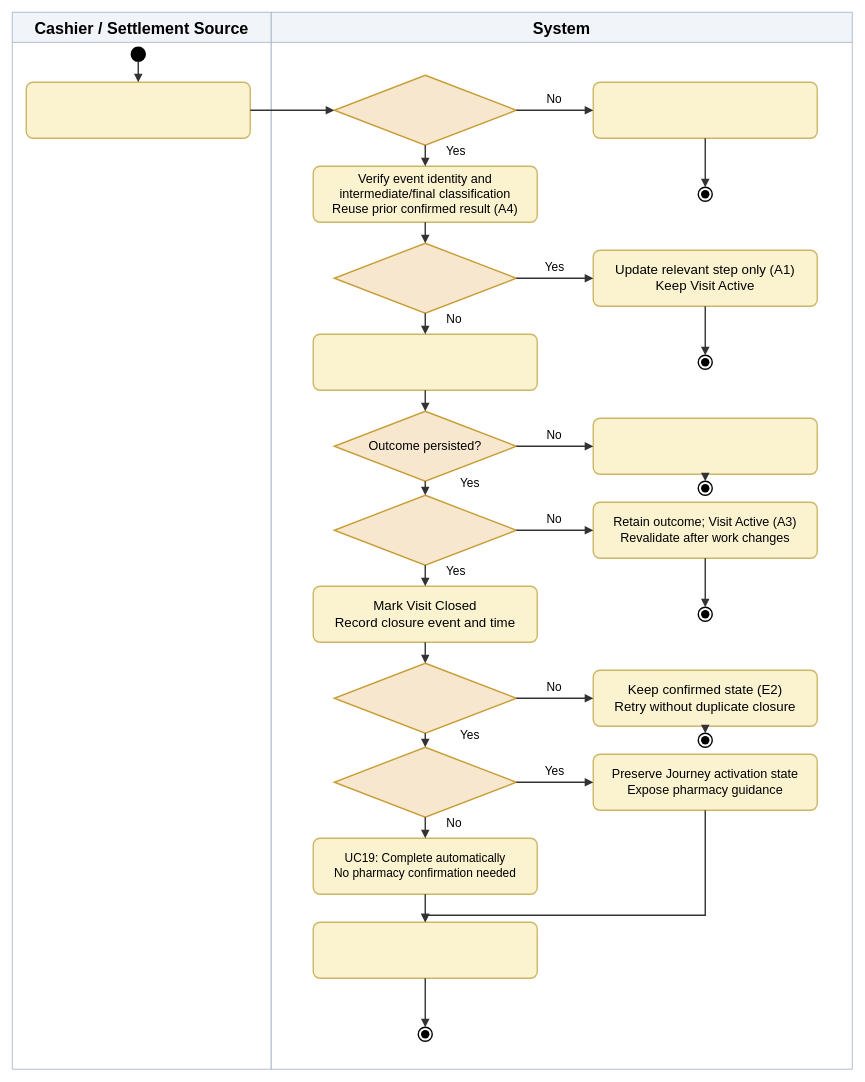
This 865x1082 diagram has some shape labels left out. The box of each missing label's shape, as (x1, y1, x2, y2) in pixels:
Authorized source and valid Visit/event?: (333, 74, 517, 146)
Closure persisted?: (333, 662, 517, 734)
Intermediate payment?: (333, 242, 517, 314)
No false success (E2) Check confirmed result; safe retry: (592, 417, 818, 475)
Pharmacy guidance remains?: (333, 746, 517, 818)
Record final outcome or authorized no-payment-required outcome (A2): (312, 333, 538, 391)
Reject untrusted/mismatched event (E1); retain state: (592, 81, 818, 139)
Required work resolved and settlement current?: (333, 494, 517, 566)
Show updated status and next instruction to Patient: (312, 921, 538, 979)
Submit outcome for correct Visit Or re-evaluate retained outcome: (25, 81, 251, 139)
